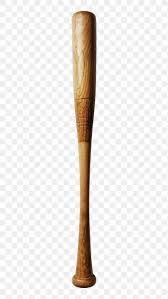baseball bat: (70, 11, 96, 288)
